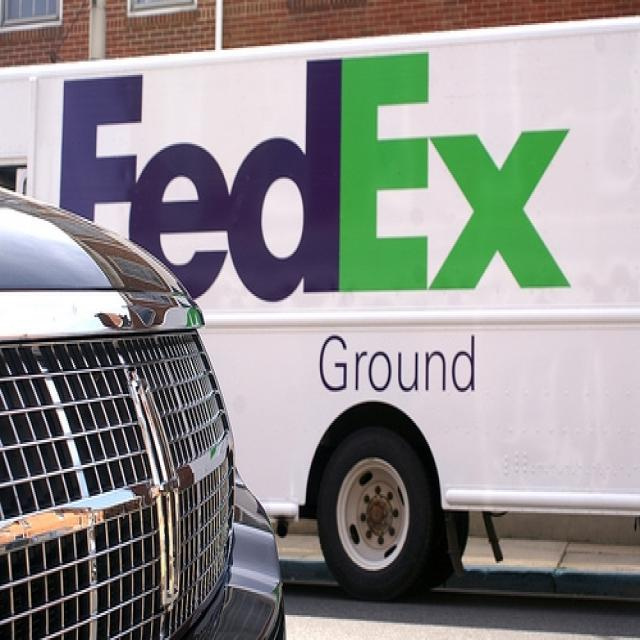fedex: (56, 47, 583, 305)
